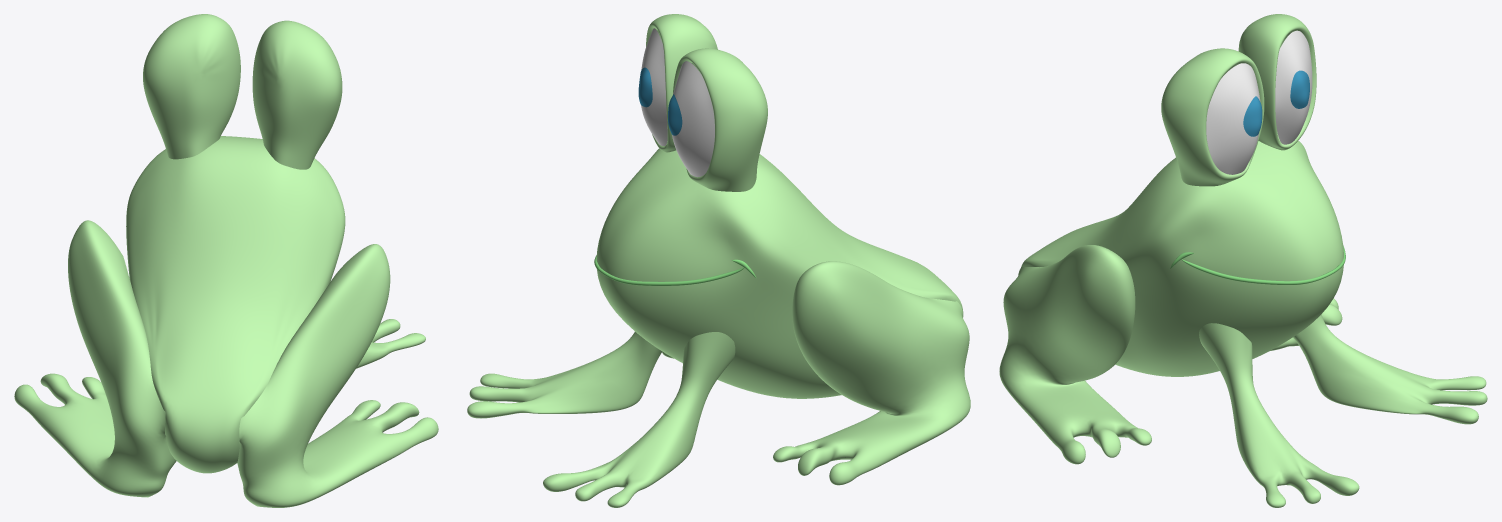
Rendered from cartoon_frog.glb.
3 renders of one model, left to right at view 1: azimuth 30°, elevation 25°; view 2: azimuth 150°, elevation 25°; view 3: azimuth 270°, elevation 25°, orthographic. The views are drawn at different scales.
Parts seen in each view (by area): view 1: frog2_0_0_0_1, frog2_15_0_0_18, frog2_14_0_0_17, frog2_7_0_0_10, frog2_6_0_0_9, frog2_1_0_0_4, frog2_12_0_0_15; view 2: frog2_0_0_0_1, frog2_14_0_0_17, frog2_12_0_0_15, frog2_7_0_0_10, frog2_3_0_0_6, frog2_6_0_0_9, frog2_2_0_0_5, frog2_13_0_0_16, frog2_1_0_0_4, frog2_11_0_0_14; view 3: frog2_0_0_0_1, frog2_15_0_0_18, frog2_12_0_0_15, frog2_6_0_0_9, frog2_2_0_0_5, frog2_7_0_0_10, frog2_3_0_0_6, frog2_13_0_0_16, frog2_1_0_0_4, frog2_10_0_0_13, frog2_5_0_0_8, frog2_4_0_0_7.
Boxes of the visible parts, x1=… form: frog2_0_0_0_1: x1=126, y1=136, x2=345, y2=473; frog2_15_0_0_18: x1=237, y1=244, x2=438, y2=507; frog2_14_0_0_17: x1=14, y1=220, x2=176, y2=497; frog2_7_0_0_10: x1=143, y1=14, x2=240, y2=159; frog2_6_0_0_9: x1=252, y1=20, x2=342, y2=169; frog2_1_0_0_4: x1=164, y1=136, x2=272, y2=471; frog2_12_0_0_15: x1=356, y1=319, x2=425, y2=368; frog2_0_0_0_1: x1=596, y1=142, x2=963, y2=398; frog2_14_0_0_17: x1=773, y1=261, x2=970, y2=485; frog2_12_0_0_15: x1=467, y1=332, x2=735, y2=507; frog2_7_0_0_10: x1=673, y1=48, x2=767, y2=191; frog2_3_0_0_6: x1=672, y1=61, x2=714, y2=177; frog2_6_0_0_9: x1=646, y1=14, x2=717, y2=152; frog2_2_0_0_5: x1=641, y1=28, x2=667, y2=145; frog2_13_0_0_16: x1=469, y1=333, x2=716, y2=505; frog2_1_0_0_4: x1=597, y1=154, x2=957, y2=398; frog2_11_0_0_14: x1=598, y1=267, x2=744, y2=285; frog2_0_0_0_1: x1=1021, y1=132, x2=1343, y2=376; frog2_15_0_0_18: x1=999, y1=245, x2=1151, y2=464; frog2_12_0_0_15: x1=1199, y1=314, x2=1487, y2=507; frog2_6_0_0_9: x1=1161, y1=48, x2=1264, y2=186; frog2_2_0_0_5: x1=1206, y1=63, x2=1260, y2=174; frog2_7_0_0_10: x1=1238, y1=14, x2=1316, y2=150; frog2_3_0_0_6: x1=1275, y1=30, x2=1312, y2=144; frog2_13_0_0_16: x1=1214, y1=321, x2=1485, y2=506; frog2_1_0_0_4: x1=1023, y1=144, x2=1343, y2=376; frog2_10_0_0_13: x1=1181, y1=259, x2=1334, y2=284; frog2_5_0_0_8: x1=1290, y1=70, x2=1309, y2=108; frog2_4_0_0_7: x1=1243, y1=96, x2=1262, y2=136.
Bounding box in the file's own units: 0.8798 × 0.8254 × 0.9306.
